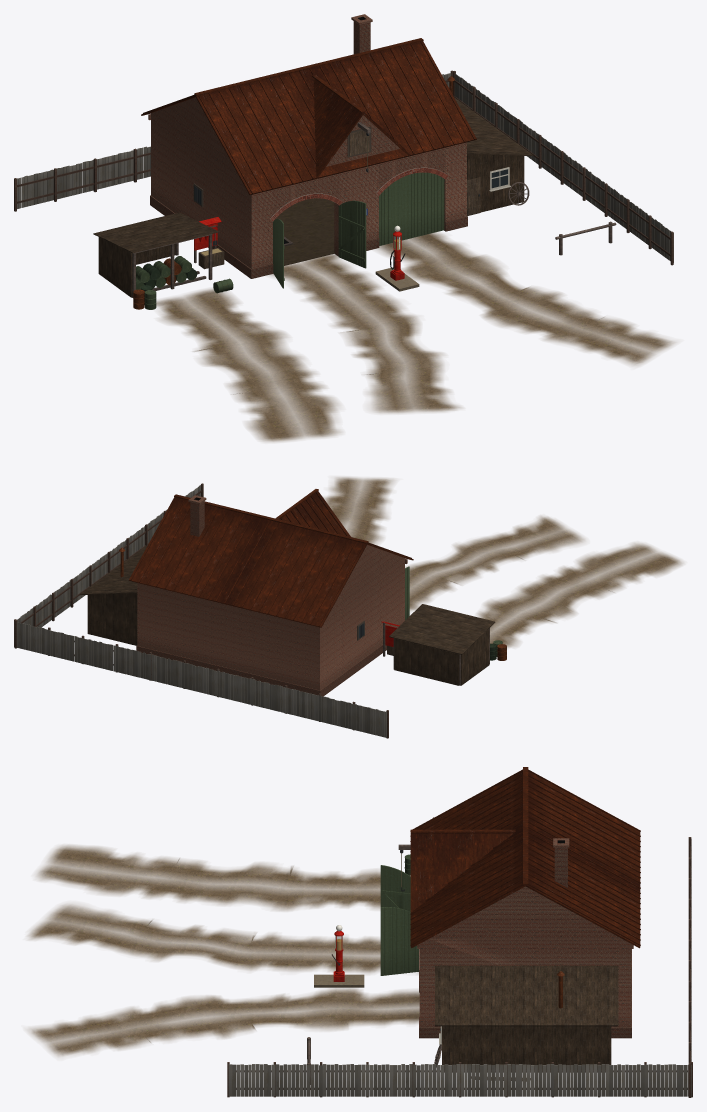
The model's file is garage.glb.
The picture shows the model from 3 angles, top to bottom: view 1: azimuth 30°, elevation 25°; view 2: azimuth 150°, elevation 25°; view 3: azimuth 270°, elevation 25°; orthographic projection. The views are drawn at different scales.
Visible parts, largest first — view 1: garage; view 2: garage; view 3: garage.
Boxes of the visible parts, bbox=[...] form: garage: bbox=[14, 14, 676, 442]; garage: bbox=[14, 477, 683, 738]; garage: bbox=[27, 767, 692, 1097].
Bounding box in the file's own units: 30.09 × 9.67 × 33.7.
Materials: 38 (20 with a texture image).
